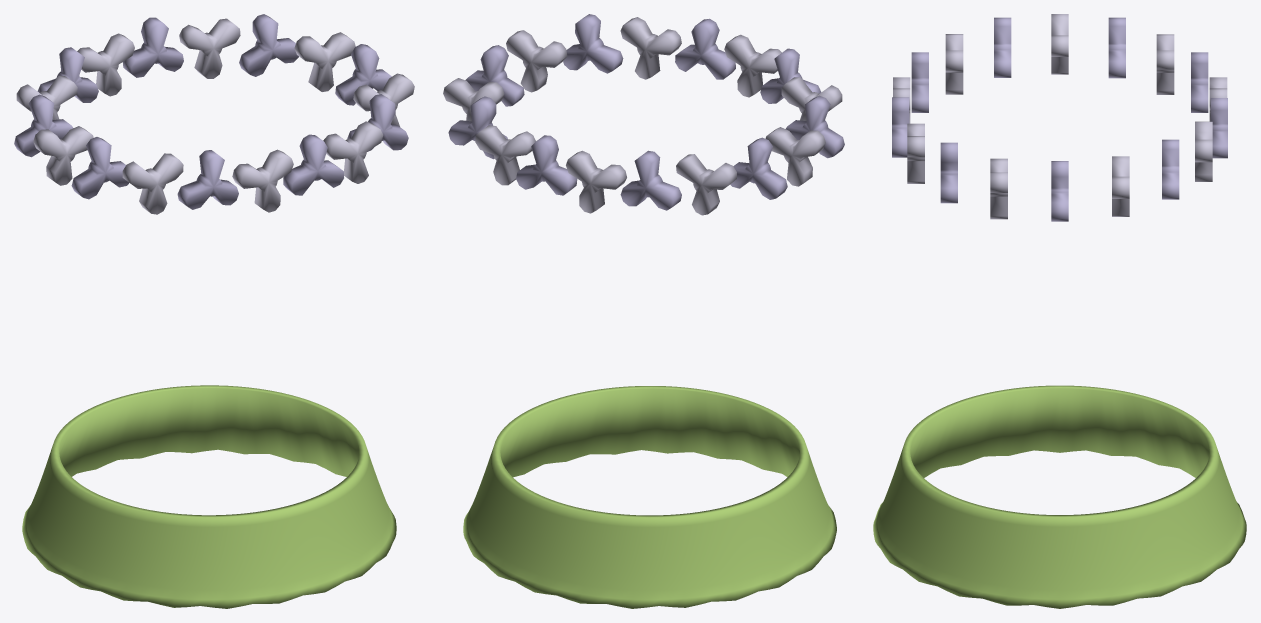
File: island_momonga.glb
3 views of the same model, side by side, from view 1: azimuth 30°, elevation 25°; view 2: azimuth 150°, elevation 25°; view 3: azimuth 270°, elevation 25° (orthographic).
Visible parts, largest first — view 1: island_momonga; view 2: island_momonga; view 3: island_momonga.
Part boxes in pixels (<box>): island_momonga: <box>14,14,414,608</box>; island_momonga: <box>443,14,844,608</box>; island_momonga: <box>873,14,1246,608</box>.
Bounding box in the file's own units: 0.6841 × 0.8208 × 0.626.
